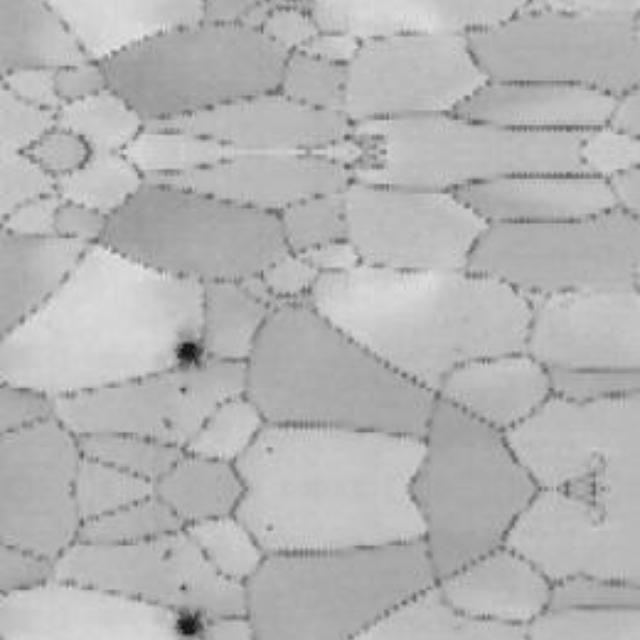good_void: (175, 333, 211, 365), (175, 611, 211, 640), (164, 547, 175, 561), (164, 416, 175, 429), (176, 386, 190, 396), (176, 581, 190, 591), (267, 444, 276, 453), (267, 524, 276, 532)
